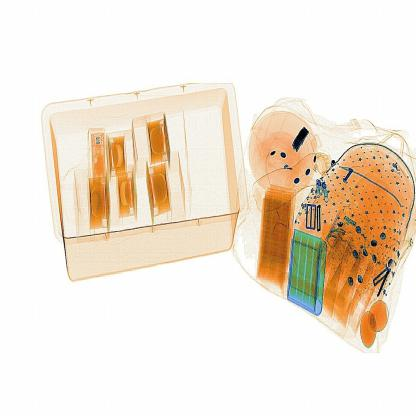scissors: (293, 126, 312, 158)
